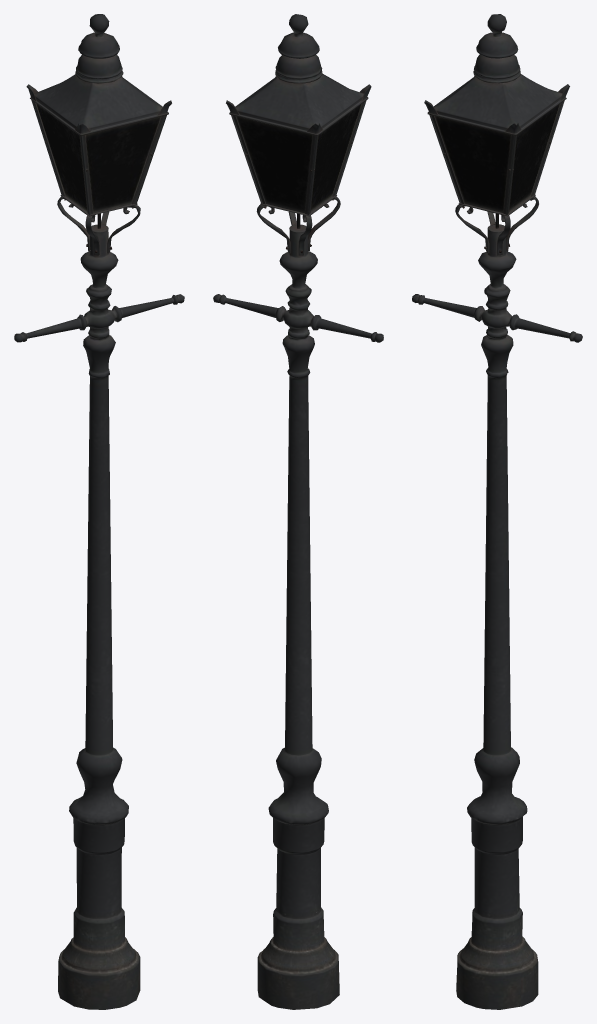
Rendered from street_lamp_01.glb.
The picture shows the model from 3 angles, left to right: view 1: azimuth 30°, elevation 25°; view 2: azimuth 150°, elevation 25°; view 3: azimuth 330°, elevation 25°; orthographic projection.
Parts seen in each view (by area): view 1: street_lamp_01_post_mesh, street_lamp_01; view 2: street_lamp_01_post_mesh, street_lamp_01; view 3: street_lamp_01_post_mesh, street_lamp_01.
Boxes of the visible parts, box(x1,y1,x2,y2) form: street_lamp_01_post_mesh: box(14, 14, 184, 1009); street_lamp_01: box(36, 103, 161, 213); street_lamp_01_post_mesh: box(213, 14, 383, 1009); street_lamp_01: box(236, 104, 361, 213); street_lamp_01_post_mesh: box(412, 14, 582, 1009); street_lamp_01: box(434, 103, 560, 213).
Size of the model in its own units: 0.7025 by 3.87 by 0.3865.
Materials: 3 (3 with a texture image).
